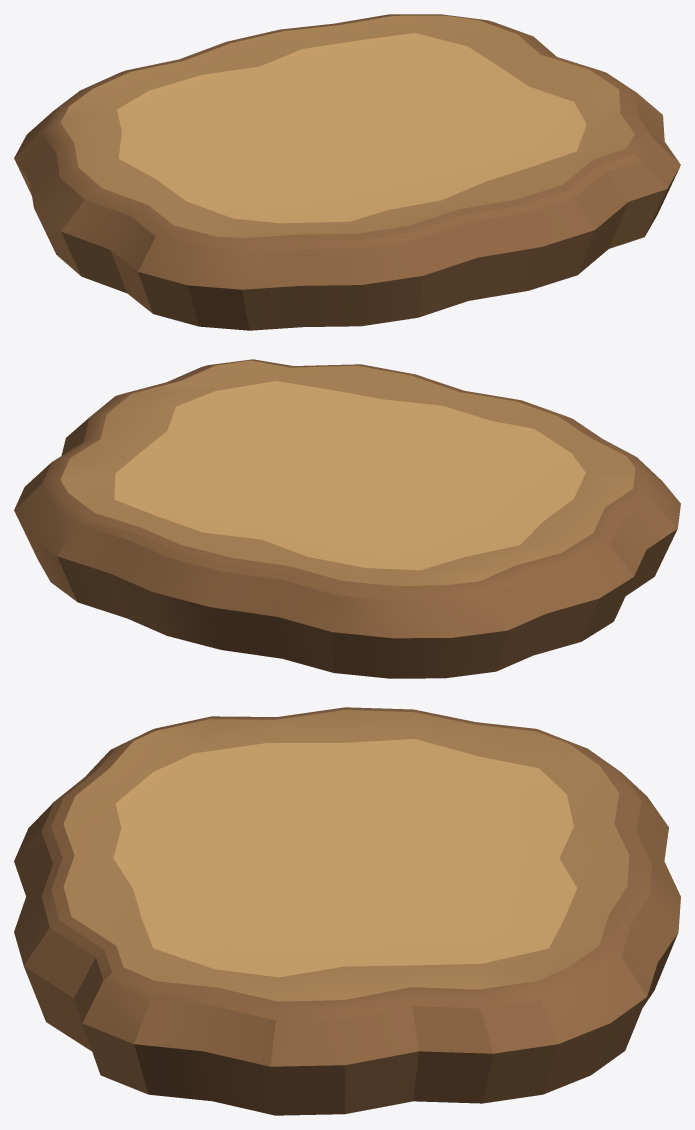
File: Ground.fbx
The picture shows the model from 3 angles, top to bottom: view 1: azimuth 30°, elevation 25°; view 2: azimuth 150°, elevation 25°; view 3: azimuth 270°, elevation 25°; orthographic projection. The views are drawn at different scales.
Parts seen in each view (by area): view 1: Ground; view 2: Ground; view 3: Ground.
Boxes of the visible parts, x1,y1,x2,y2 form: Ground: (14, 14, 680, 330); Ground: (14, 359, 680, 678); Ground: (14, 707, 680, 1115).
Bounding box in the file's own units: 3239 × 455 × 2681.
1 material, 1 textured.
